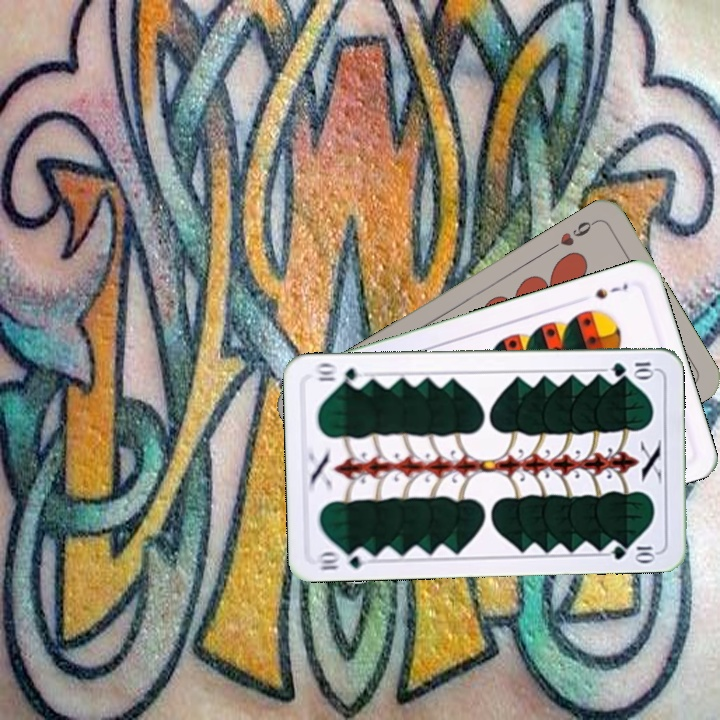G10: (313, 545, 372, 573), (608, 358, 657, 379)
H9: (546, 216, 600, 253)
S7: (591, 278, 631, 302)
